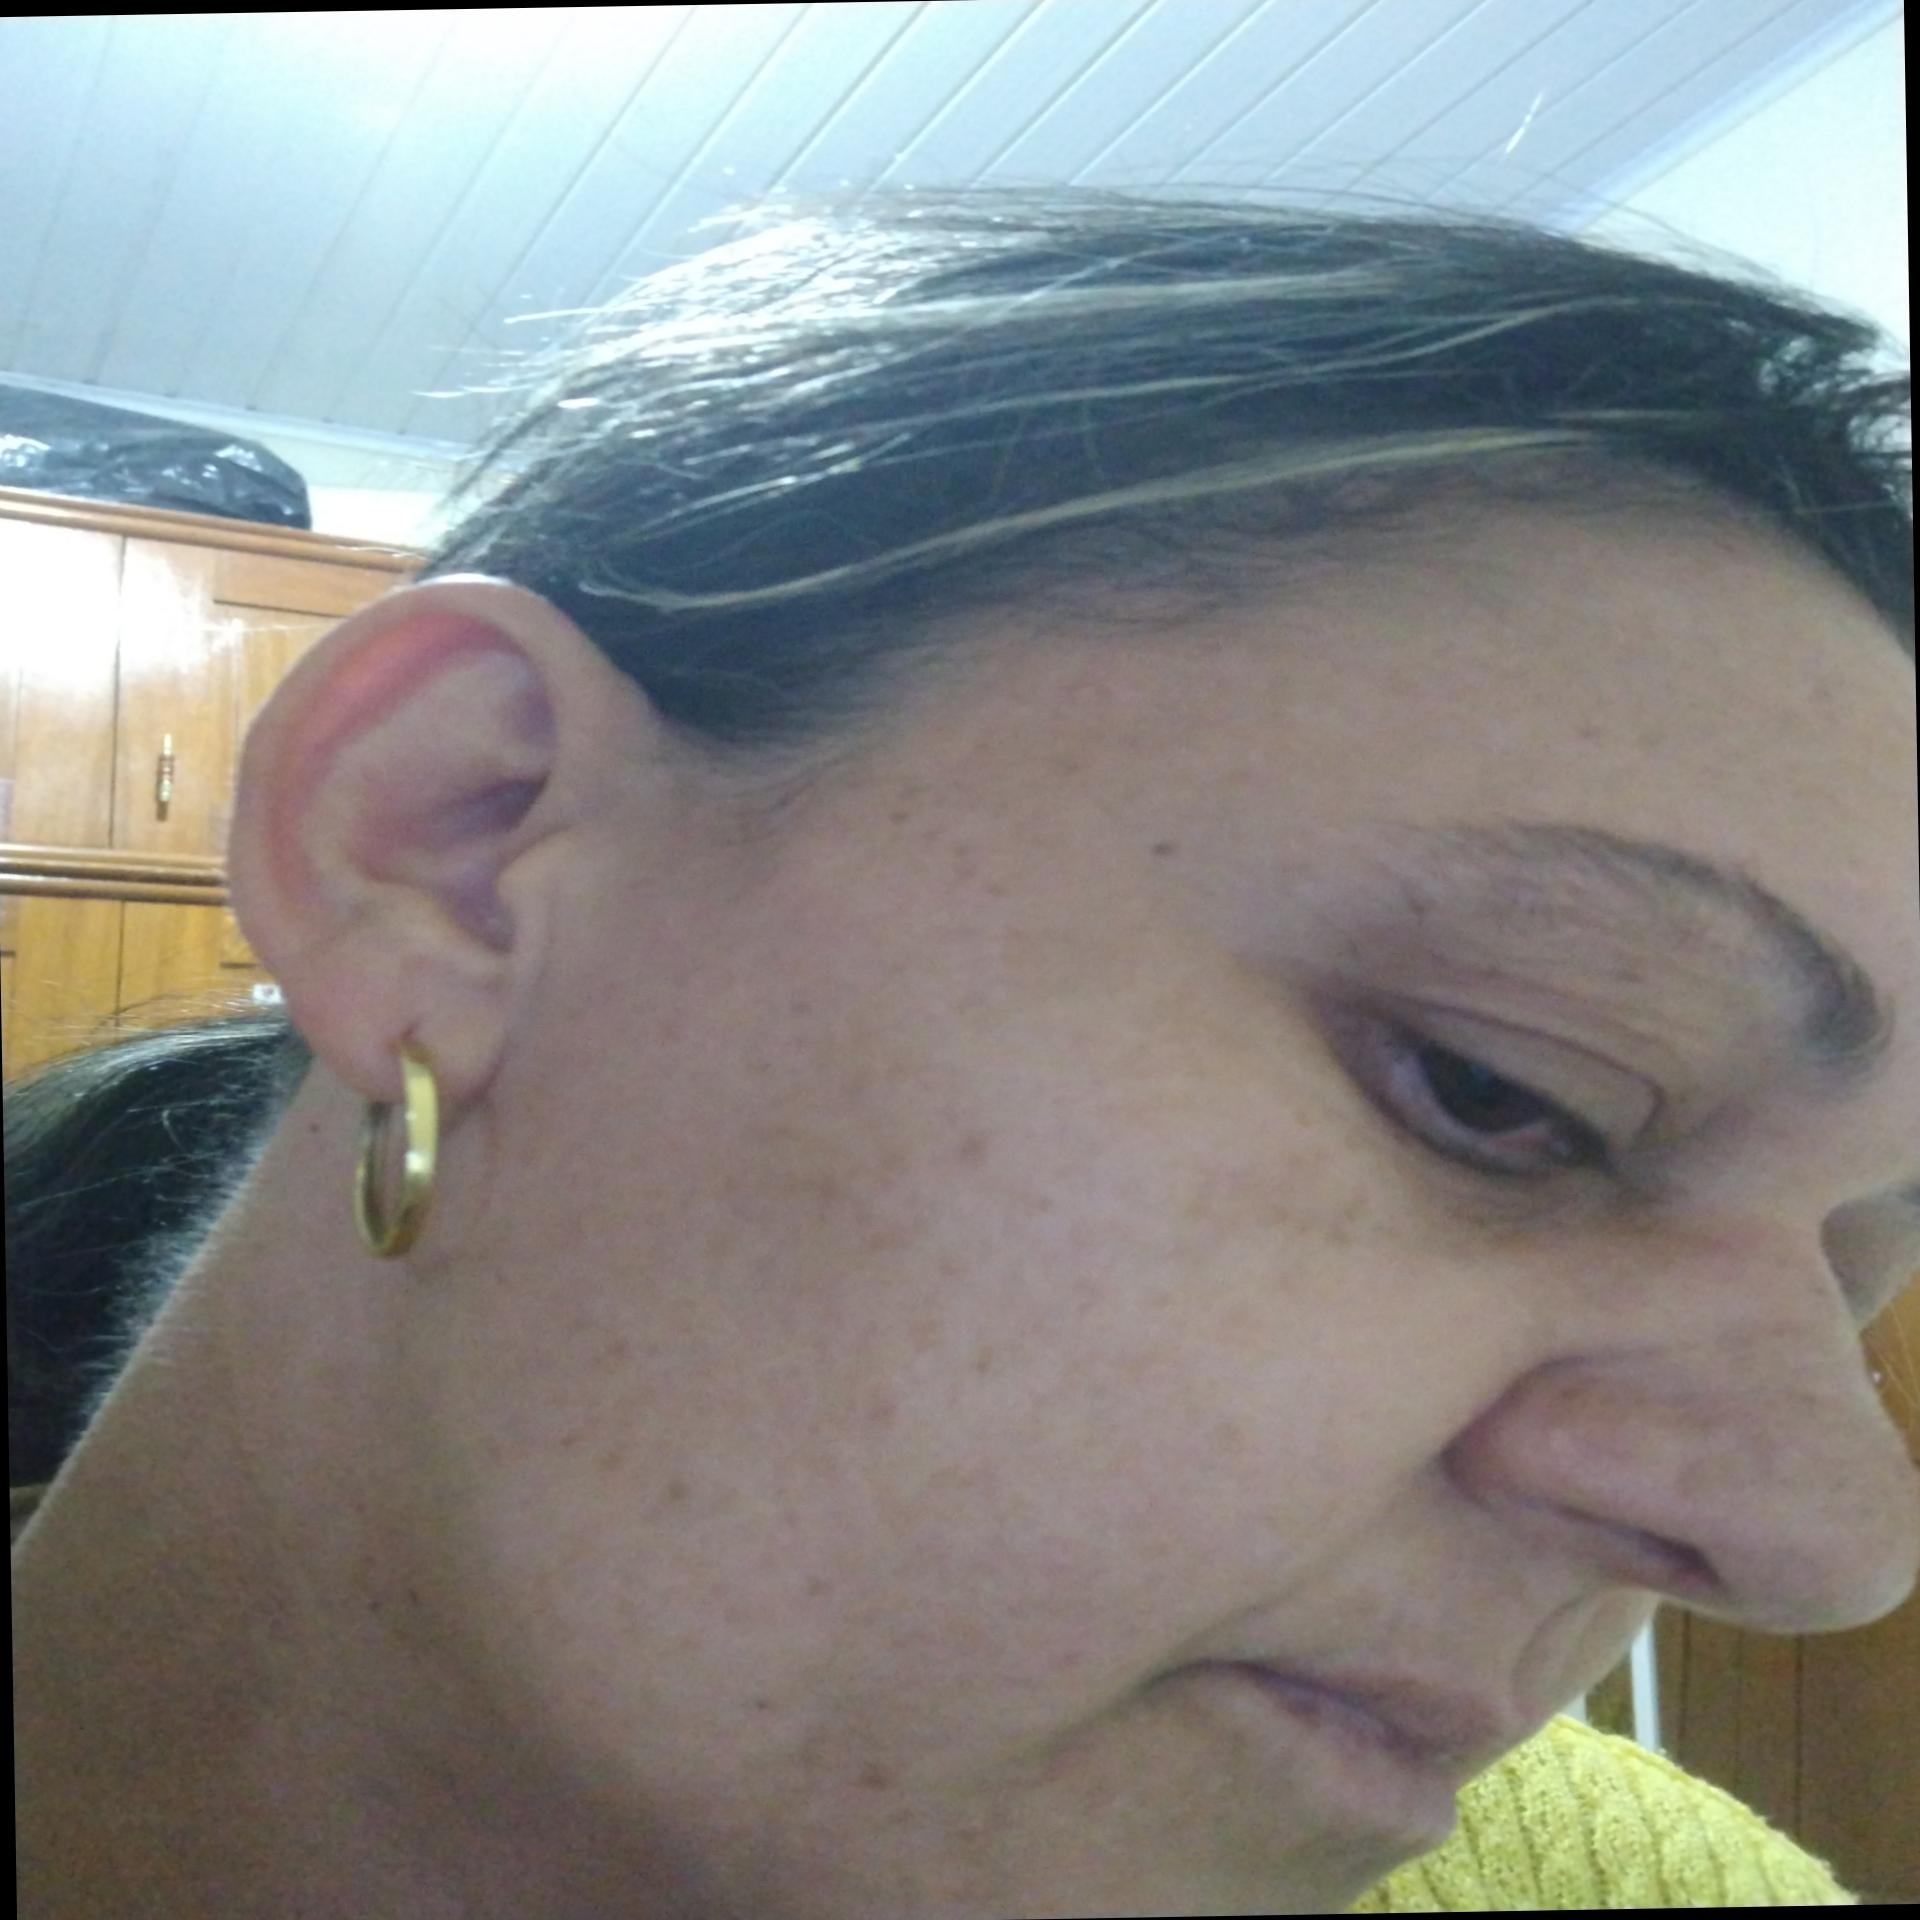Acne: (913, 1116, 1015, 1173), (735, 1688, 804, 1734), (851, 1749, 907, 1804), (791, 1563, 856, 1609), (1129, 835, 1190, 872), (651, 1463, 695, 1502)
Wrinkles: (1419, 907, 1684, 1023), (995, 1679, 1157, 1816), (1164, 1579, 1306, 1667), (1640, 986, 1716, 1116), (1582, 1340, 1705, 1417), (1278, 1479, 1377, 1547)
